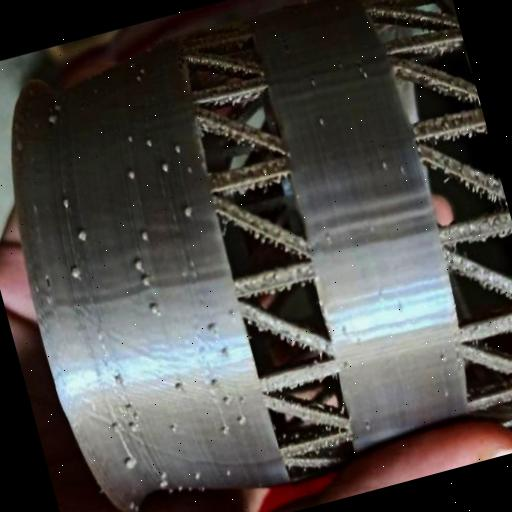blobs: (120, 450, 142, 473), (65, 260, 85, 284), (152, 468, 172, 492), (176, 202, 196, 224), (42, 108, 62, 130), (70, 224, 90, 246), (202, 314, 222, 336), (168, 137, 186, 161), (126, 254, 146, 274), (108, 416, 128, 434), (154, 158, 172, 177), (56, 191, 74, 210), (136, 269, 154, 288), (314, 112, 332, 130), (122, 130, 140, 148), (134, 226, 152, 244), (122, 165, 140, 183), (143, 298, 162, 315), (378, 156, 394, 176), (108, 367, 124, 386), (231, 408, 247, 426), (206, 374, 222, 392), (188, 466, 203, 483), (124, 417, 138, 432), (217, 390, 230, 406), (141, 137, 155, 149)
